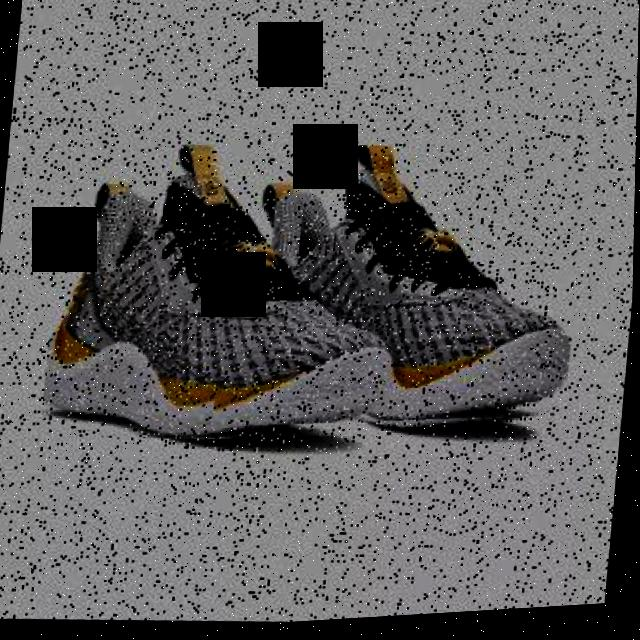shoe: (40, 128, 412, 464), (211, 130, 590, 454)
